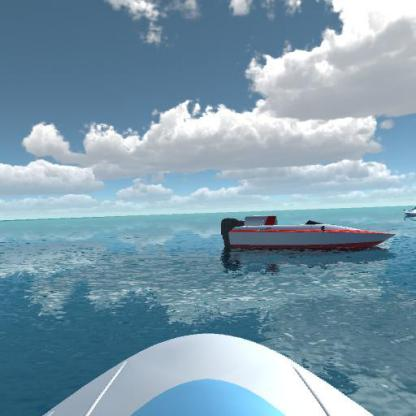usv1: (398, 202, 415, 220)
usv3: (217, 210, 400, 261)
